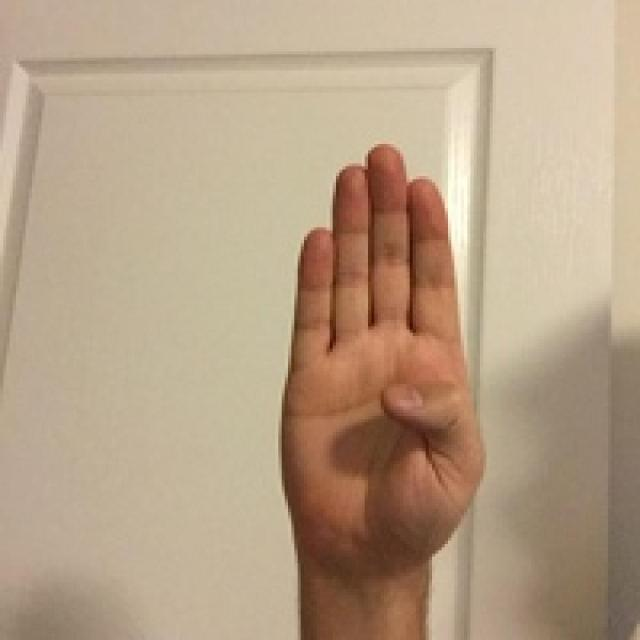B: (258, 114, 520, 587)
